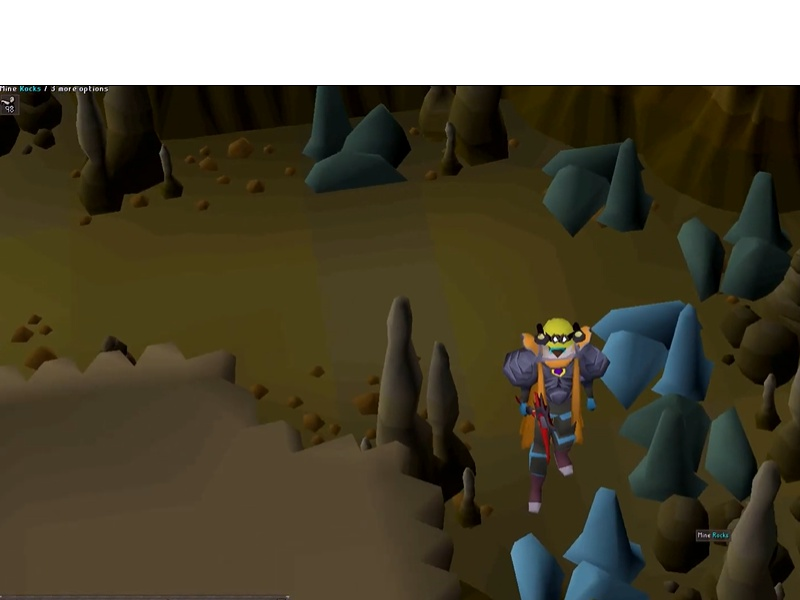adamant: (672, 168, 794, 306), (617, 389, 762, 504), (299, 86, 416, 197), (539, 135, 660, 241)
rune: (505, 482, 654, 600), (588, 297, 717, 412)
